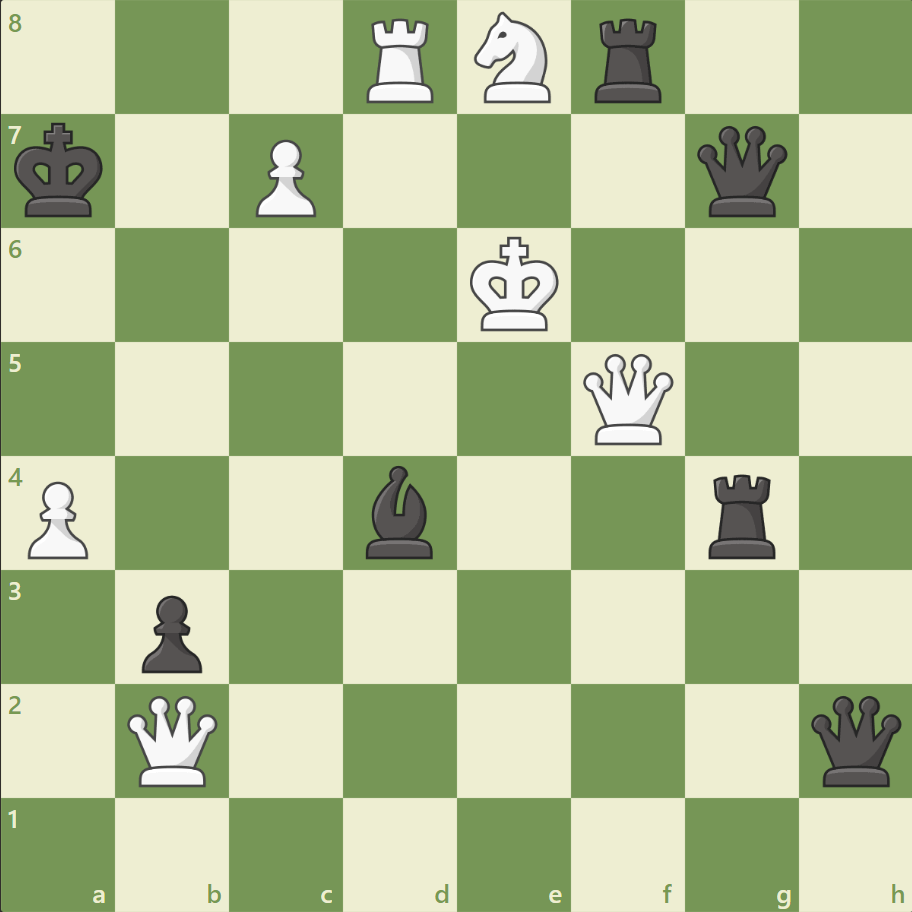K: (465, 231, 565, 339)
N: (465, 7, 562, 110)
P: (247, 132, 322, 223), (20, 473, 95, 564)
Q: (578, 349, 677, 449), (124, 690, 223, 789)
R: (360, 12, 442, 109)
b: (358, 460, 442, 563)
k: (11, 117, 111, 225)
p: (133, 586, 208, 677)
q: (691, 122, 790, 222), (805, 690, 904, 789)
r: (587, 12, 670, 109), (700, 466, 783, 563)
